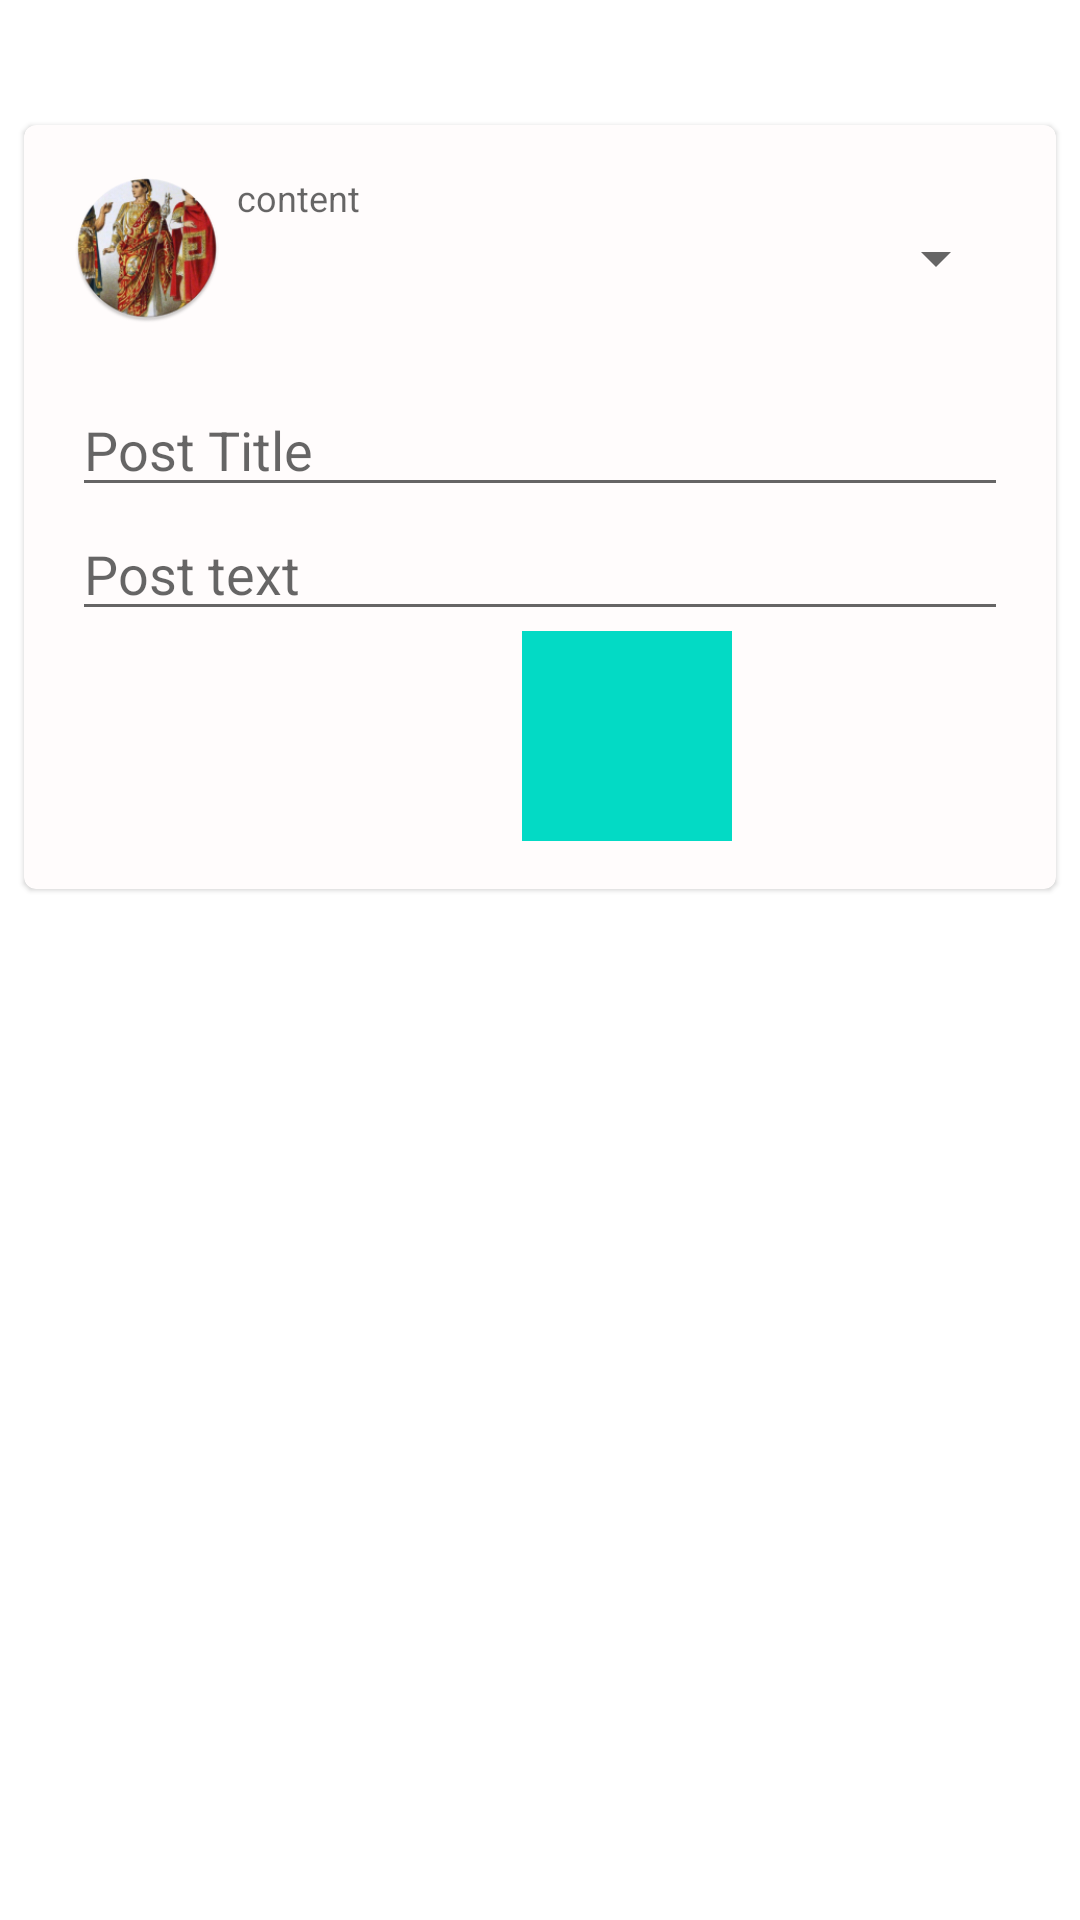

Icon bounding boxes for this 1080px×1920px phone screenshot, format (x1, y1, x2, y2):
patricians round: (77, 178, 217, 320)
